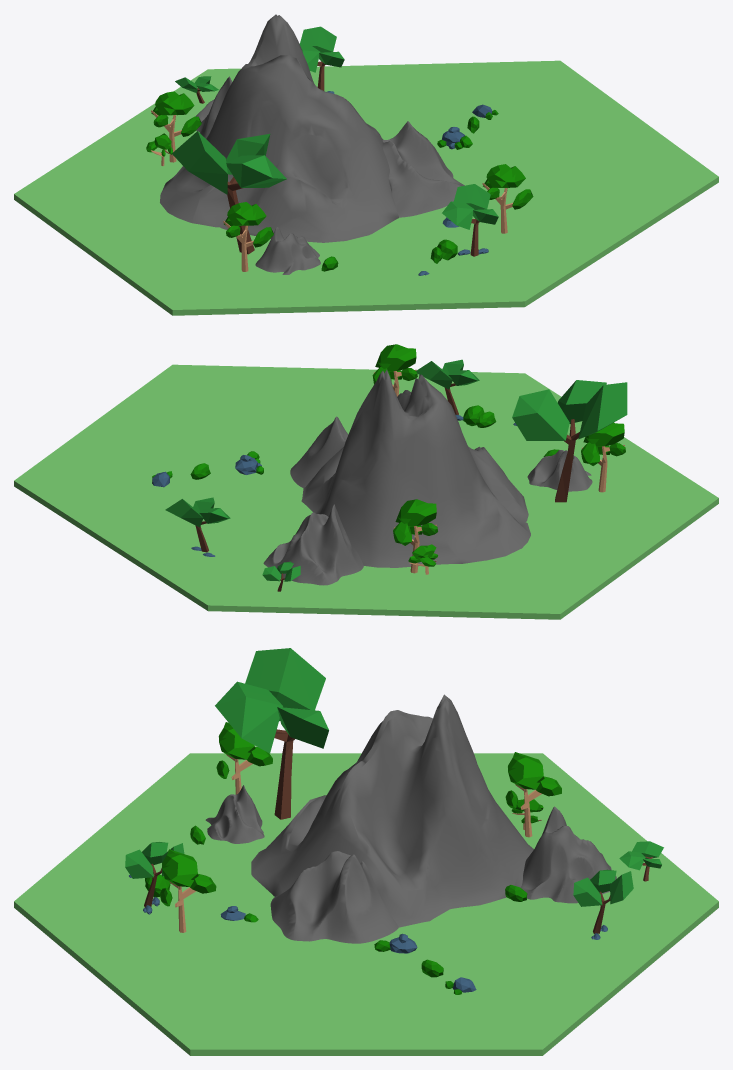
File: Hexagone ressource pierre.fbx
3 renders of one model, top to bottom at view 1: azimuth 30°, elevation 25°; view 2: azimuth 150°, elevation 25°; view 3: azimuth 270°, elevation 25°, orthographic. The views are drawn at different scales.
Parts seen in each view (by area): view 1: Cylindre.002, Landscape.008, Landscape.009, Cube.047, Cube.018, Landscape.002, Cube.062, Icokugel.005, Icokugel.076, Icokugel.077, Landscape.001, Icokugel.024 (+1 smaller); view 2: Cylindre.002, Landscape.008, Cube.047, Landscape.001, Landscape.009, Icokugel.076, Landscape.002, Icokugel.005, Cube.062, Icokugel.077, Cube.018, Cube.061 (+2 smaller); view 3: Cylindre.002, Landscape.008, Cube.047, Landscape.009, Landscape.001, Landscape.002, Icokugel.076, Icokugel.077, Cube.062, Icokugel.005, Cube.018, Cube.061.
Boxes of the visible parts, x1,y1,x2,y2 form: Cylindre.002: [14, 60, 718, 315]; Landscape.008: [160, 14, 398, 242]; Landscape.009: [382, 121, 464, 217]; Cube.047: [172, 131, 286, 254]; Cube.018: [442, 184, 498, 256]; Landscape.002: [255, 227, 320, 274]; Cube.062: [299, 26, 344, 93]; Icokugel.005: [223, 202, 273, 271]; Icokugel.076: [151, 91, 201, 162]; Icokugel.077: [482, 164, 533, 233]; Landscape.001: [195, 76, 232, 138]; Icokugel.024: [437, 127, 472, 149]; Cylindre.002: [14, 364, 718, 619]; Landscape.008: [301, 370, 530, 567]; Cube.047: [512, 380, 627, 502]; Landscape.001: [263, 504, 363, 585]; Landscape.009: [290, 416, 348, 487]; Icokugel.076: [393, 499, 437, 573]; Landscape.002: [527, 450, 592, 491]; Icokugel.005: [581, 422, 625, 492]; Cube.062: [165, 497, 230, 556]; Icokugel.077: [372, 344, 417, 396]; Cube.018: [416, 359, 479, 420]; Cube.061: [262, 561, 300, 591]; Cylindre.002: [14, 753, 718, 1055]; Landscape.008: [251, 694, 533, 927]; Cube.047: [215, 648, 328, 819]; Landscape.009: [270, 851, 398, 943]; Landscape.001: [520, 806, 616, 903]; Landscape.002: [205, 785, 264, 843]; Icokugel.076: [505, 752, 561, 837]; Icokugel.077: [159, 849, 216, 932]; Cube.062: [573, 869, 633, 939]; Icokugel.005: [216, 722, 272, 794]; Cube.018: [125, 842, 184, 914]; Cube.061: [619, 841, 663, 881].
Bounding box in the file's own units: 2001 × 586 × 2011.
